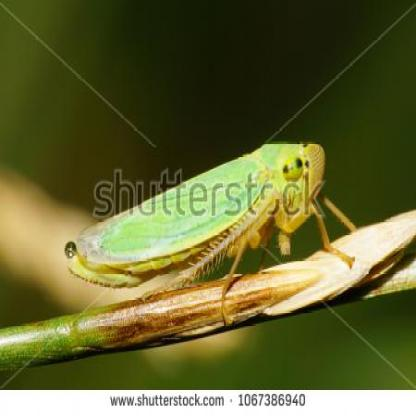Green-Leafhopper: (67, 138, 364, 310)
